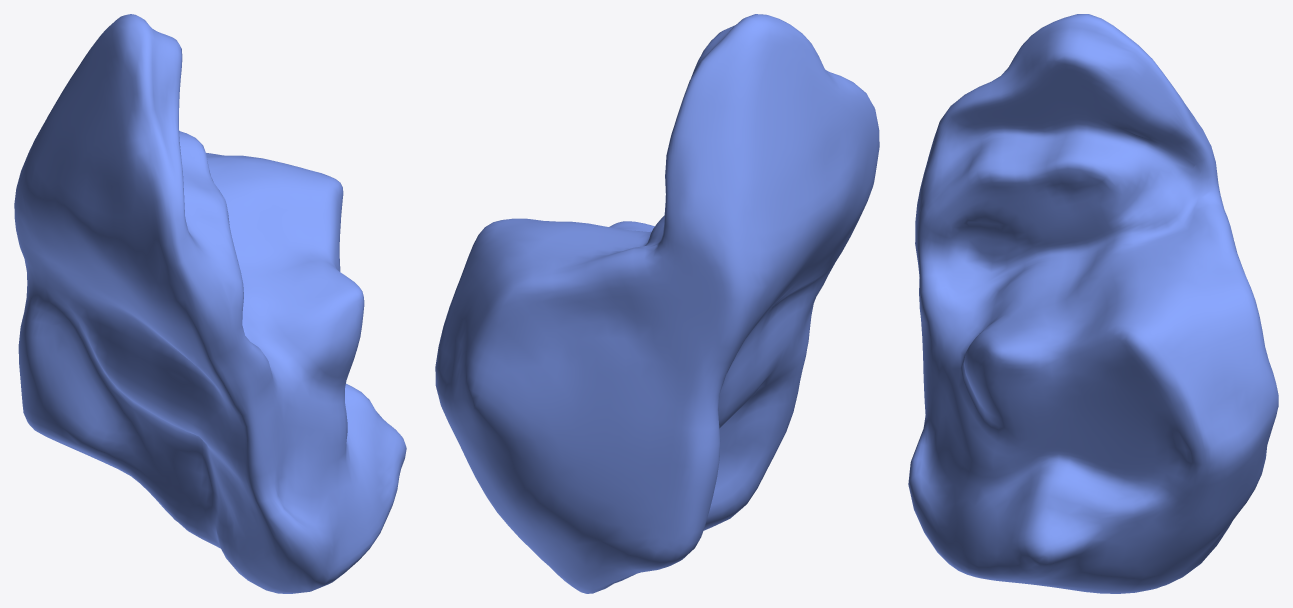
File: Roche_01_Low.fbx
3 views of the same model, side by side, from view 1: azimuth 30°, elevation 25°; view 2: azimuth 150°, elevation 25°; view 3: azimuth 270°, elevation 25° (orthographic). The views are drawn at different scales.
Parts seen in each view (by area): view 1: PM3D_Sphere3D_3; view 2: PM3D_Sphere3D_3; view 3: PM3D_Sphere3D_3.
Part boxes in pixels (x1,y1,x2,y2): PM3D_Sphere3D_3: (14,14,406,593); PM3D_Sphere3D_3: (435,14,879,593); PM3D_Sphere3D_3: (908,14,1278,593).
Bounding box in the file's own units: 1.32 × 2.28 × 1.48.
